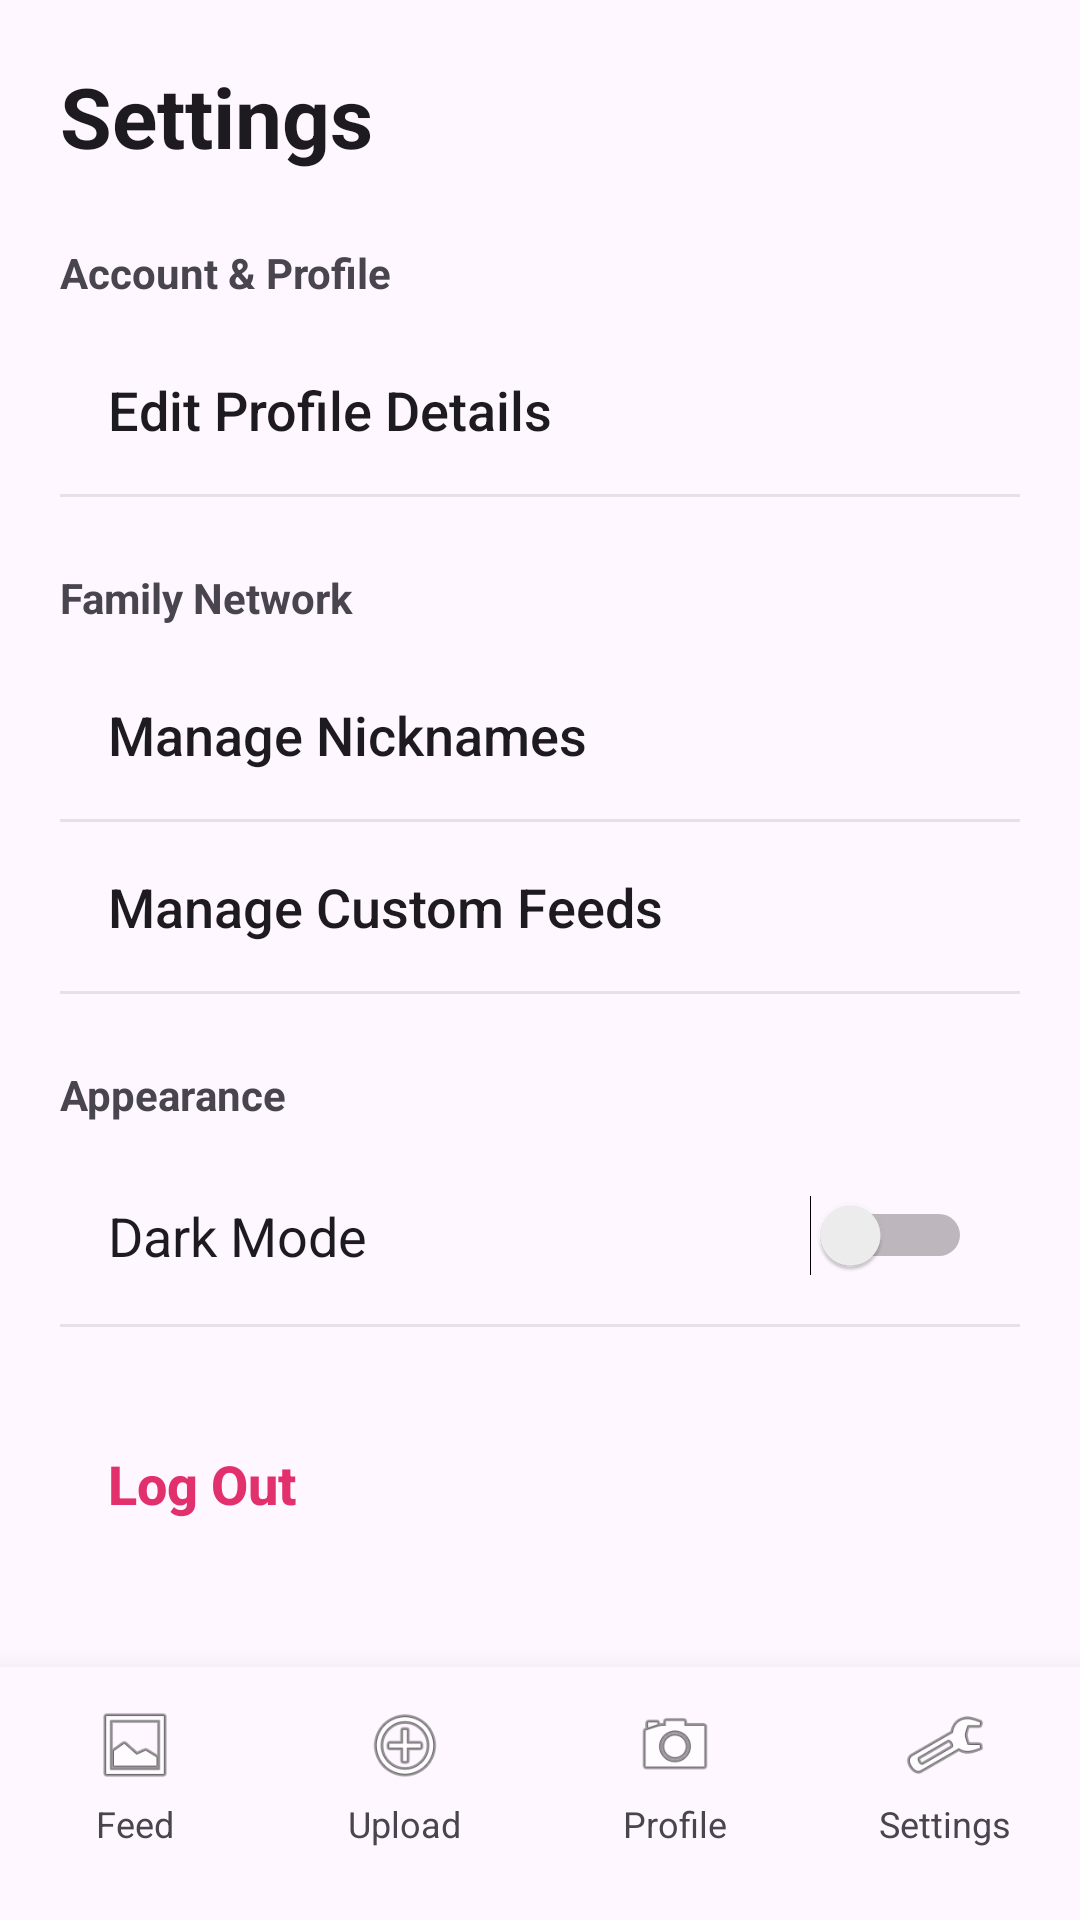

Where icons sit on this 1080 x 1920 app screen, as (left=x1, top=y1, right=x2, bottom=y2):
add: (left=374, top=1714, right=436, bottom=1777)
camera: (left=642, top=1718, right=708, bottom=1770)
gallery: (left=103, top=1713, right=167, bottom=1777)
